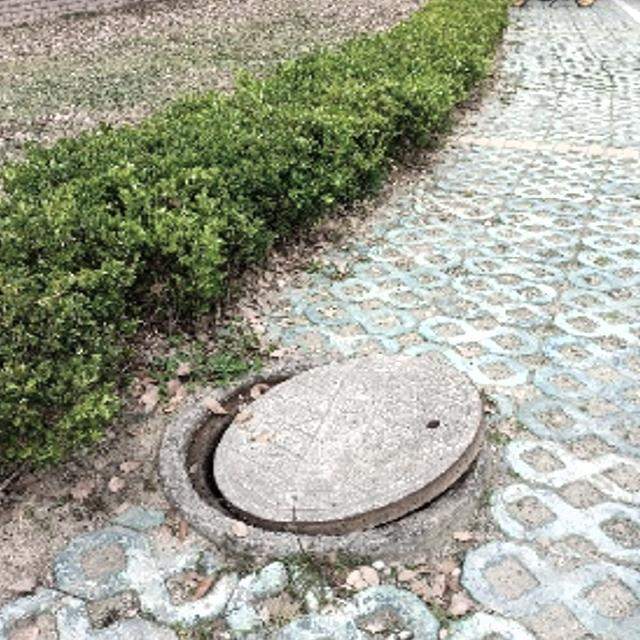uncovered: (158, 347, 496, 561)
